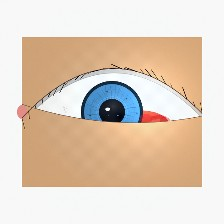hemorrhage_spot: (101, 93, 180, 157)
